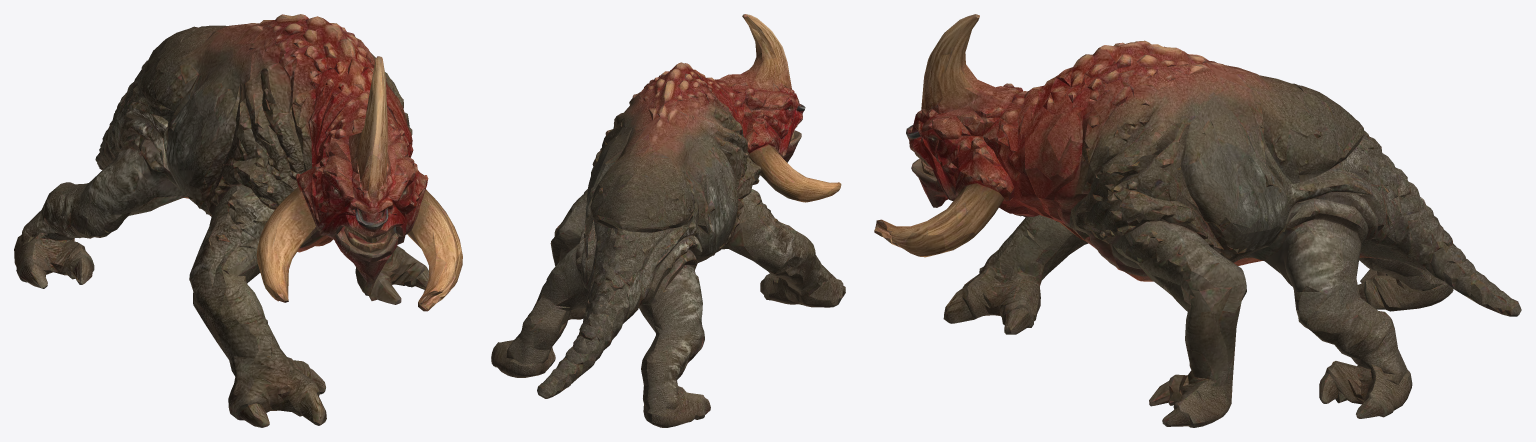
The model's file is reek.glb.
The picture shows the model from 3 angles, left to right: view 1: azimuth 30°, elevation 25°; view 2: azimuth 150°, elevation 25°; view 3: azimuth 270°, elevation 25°; orthographic projection. The views are drawn at different scales.
Parts seen in each view (by area): view 1: reek-centred; view 2: reek-centred; view 3: reek-centred.
Boxes of the visible parts, x1,y1,x2,y2 form: reek-centred: [14, 14, 462, 427]; reek-centred: [491, 14, 845, 427]; reek-centred: [874, 14, 1521, 427].
Size of the model in its own units: 2.75 by 2.92 by 5.
Materials: 1 (1 with a texture image).
